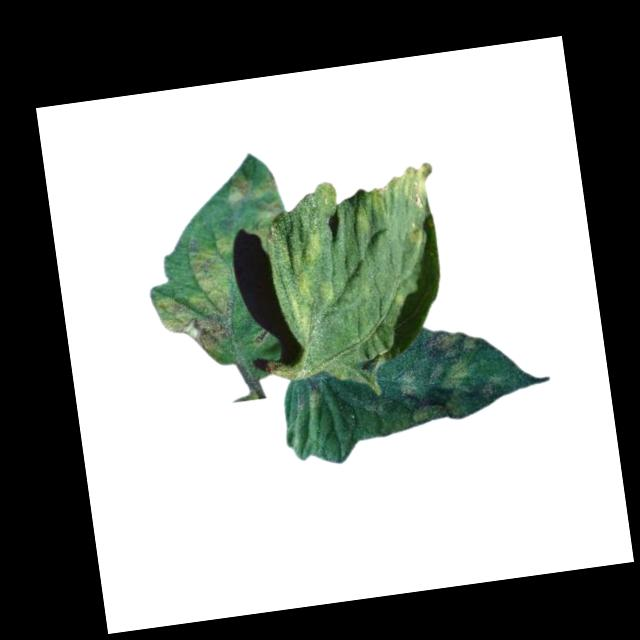Leaf_Mold: (147, 236, 248, 361), (395, 320, 503, 427), (283, 229, 341, 339), (366, 157, 437, 218), (221, 165, 287, 222), (400, 220, 425, 246)
